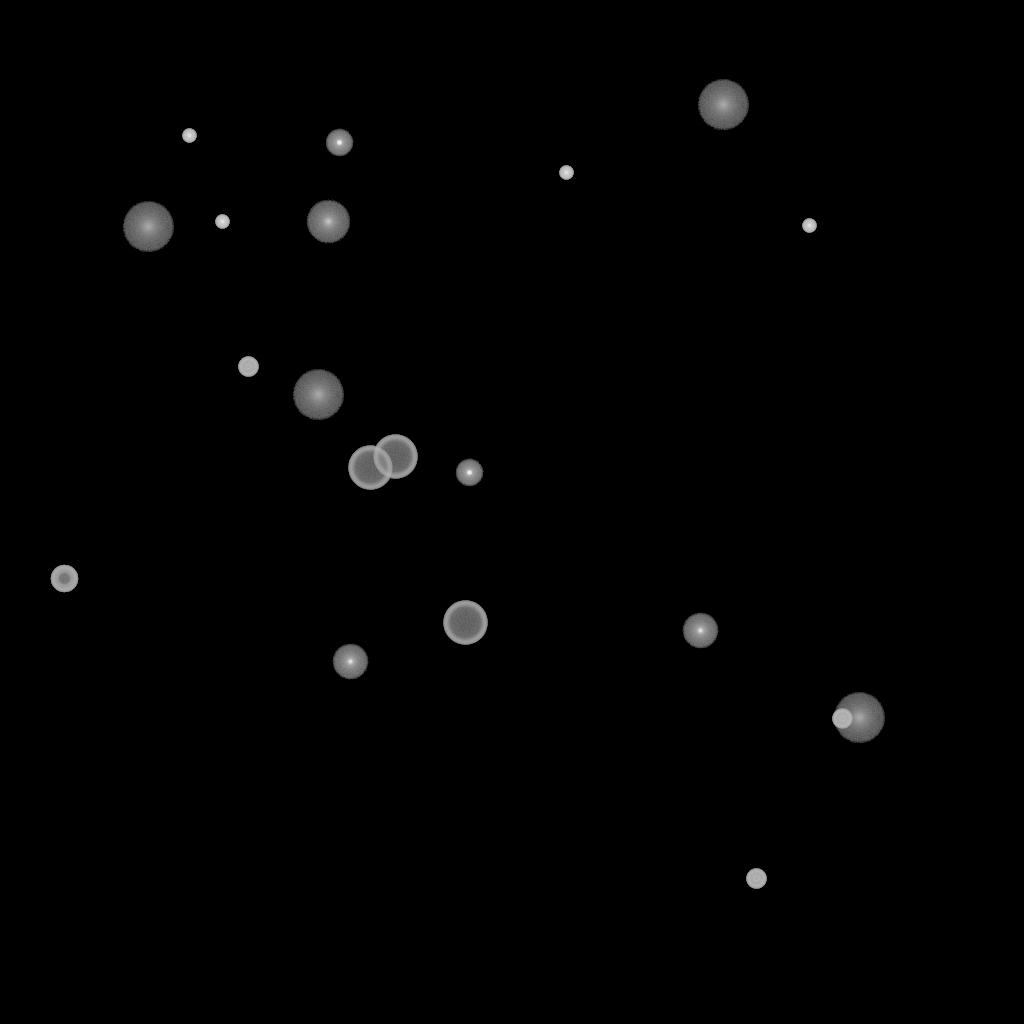depth:-10: (325, 129, 353, 157), (455, 459, 483, 487)
depth:-30: (802, 219, 816, 233), (215, 215, 229, 229), (559, 166, 573, 180), (182, 129, 196, 143)
depth:-40: (832, 709, 852, 729), (238, 357, 258, 377), (746, 869, 766, 889)
depth:-50: (50, 565, 78, 593)
depth:-70: (443, 601, 487, 645), (373, 435, 417, 479), (348, 446, 392, 490)
depth:0: (682, 613, 718, 649), (332, 644, 368, 680)
depth:10: (306, 200, 350, 244)
depth:20: (833, 693, 885, 743), (697, 80, 749, 130), (292, 370, 344, 420), (122, 202, 174, 252)
